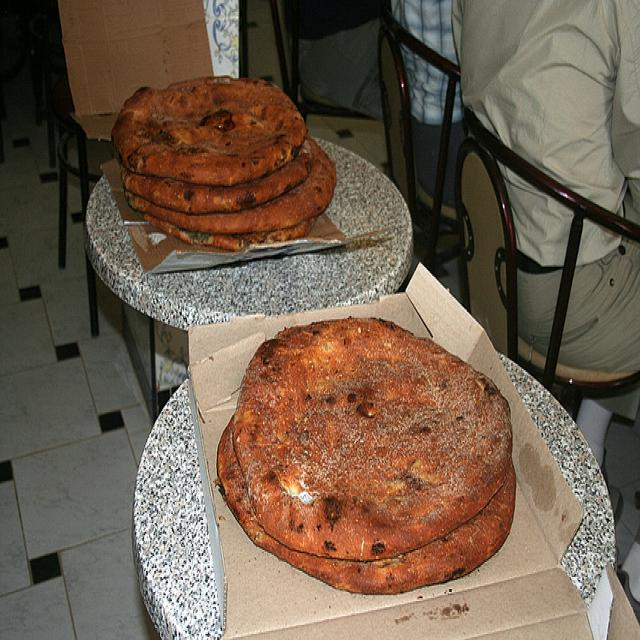chair: (462, 103, 640, 400), (376, 12, 464, 276), (56, 0, 215, 144), (48, 45, 118, 337), (238, 0, 382, 127), (456, 139, 508, 356)
dining table: (137, 349, 630, 627), (83, 139, 416, 324)
